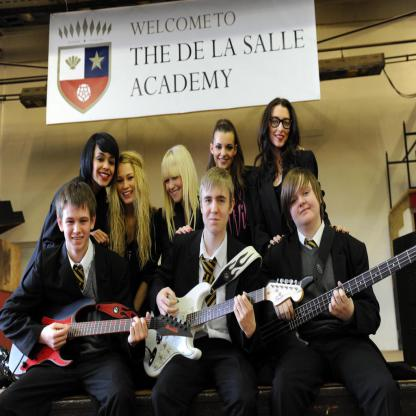face: (290, 178, 320, 226), (203, 185, 230, 232), (63, 206, 91, 250), (93, 145, 116, 187), (268, 107, 291, 149), (117, 166, 139, 205), (215, 135, 236, 170), (165, 167, 184, 204)
